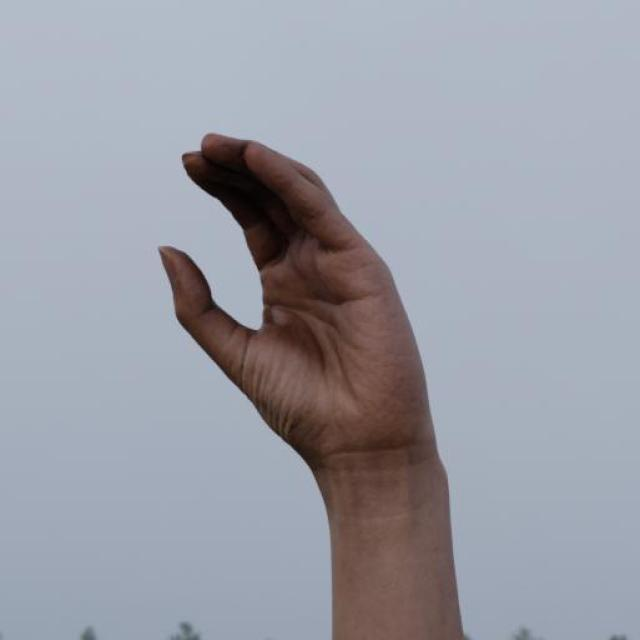C: (149, 125, 452, 506)
